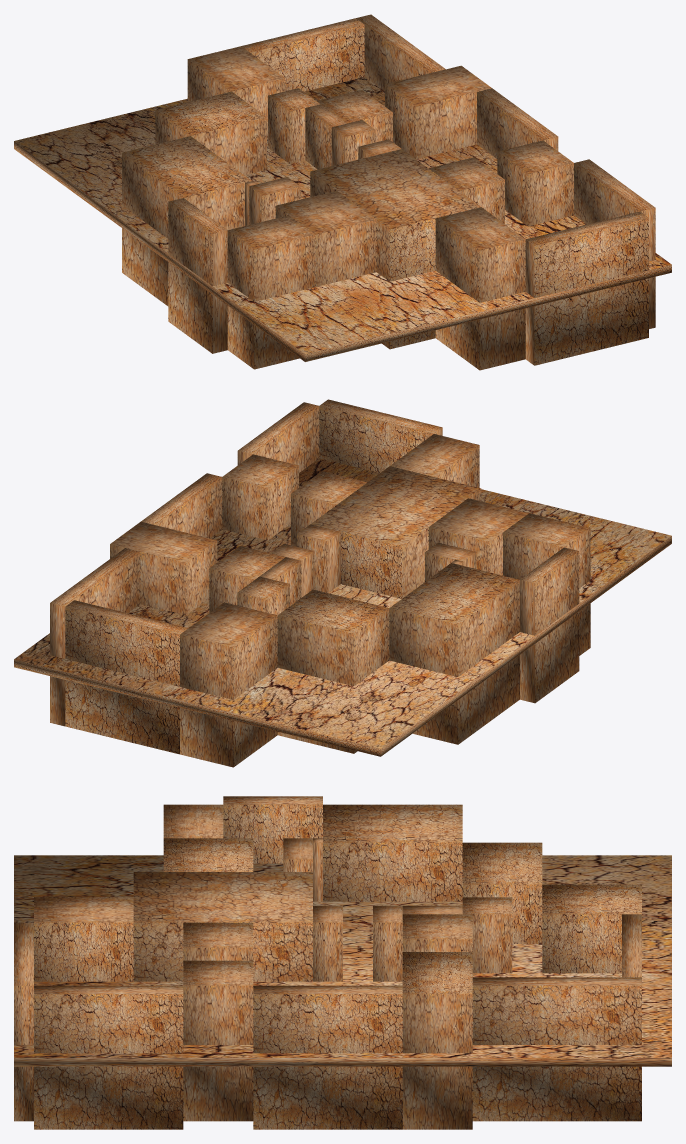
Rendered from Colisiones.obj.
3 renders of one model, top to bottom at view 1: azimuth 30°, elevation 25°; view 2: azimuth 150°, elevation 25°; view 3: azimuth 270°, elevation 25°, orthographic. The views are drawn at different scales.
Parts seen in each view (by area): view 1: Box017, aux007, 135, 141, 140, 146, 143, 151, 144, 145, 149, 137 (+10 smaller); view 2: Box017, 141, 149, 135, 133, 144, 143, 151, aux007, 137, 150, 146 (+11 smaller); view 3: Box017, 150, 136, 139, 135, 141, 151, 137, 140, 133, 144, 143 (+12 smaller).
Part boxes in pixels (x1,y1,x2,y2): Box017: (14, 77, 671, 361); aux007: (525, 211, 648, 365); 135: (310, 149, 480, 349); 141: (122, 136, 251, 306); 140: (435, 207, 525, 370); 146: (227, 215, 315, 369); 143: (168, 198, 227, 353); 151: (385, 65, 491, 158); 144: (155, 91, 266, 174); 145: (275, 190, 376, 286); 149: (241, 18, 364, 91); 137: (497, 140, 573, 226); Box017: (14, 458, 671, 756); 141: (389, 563, 519, 744); 149: (65, 600, 188, 754); 135: (311, 466, 481, 598); 133: (180, 602, 277, 767); 144: (277, 589, 389, 753); 143: (520, 547, 579, 703); 151: (110, 521, 217, 614); aux007: (319, 399, 442, 472); 137: (222, 454, 298, 540); 150: (50, 548, 140, 726); 146: (503, 513, 590, 655); Box017: (14, 855, 671, 1066); 150: (472, 977, 641, 1121); 136: (253, 985, 402, 1129); 139: (34, 985, 183, 1129); 135: (133, 872, 312, 981); 141: (323, 804, 462, 901); 151: (402, 952, 472, 1129); 137: (183, 960, 253, 1121); 140: (34, 897, 133, 981); 133: (542, 884, 641, 973); 144: (462, 842, 542, 943); 143: (223, 796, 322, 863).
Size of the model in its own units: 236 by 73.82 by 325.
1 material, 1 textured.
